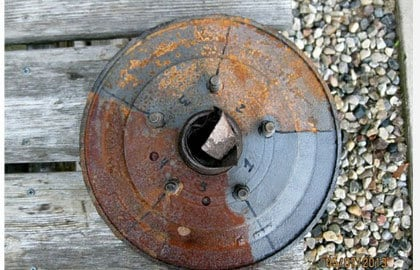rust: (111, 173, 252, 265), (88, 114, 173, 164)
